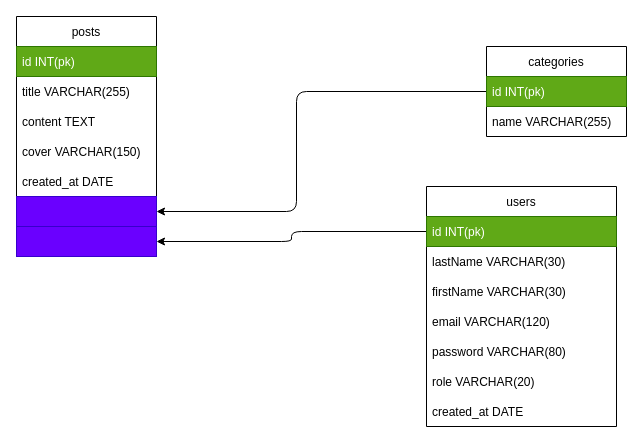
The diagram is 643 pixels wide and 443 high, and some of its shapes have lost their labels. Here are the shapes that lost their labels. From the top down, the centre of each, then its label:
the point at 86,211: category_id INT (fk)
the point at 86,241: user_id INT (fk)
